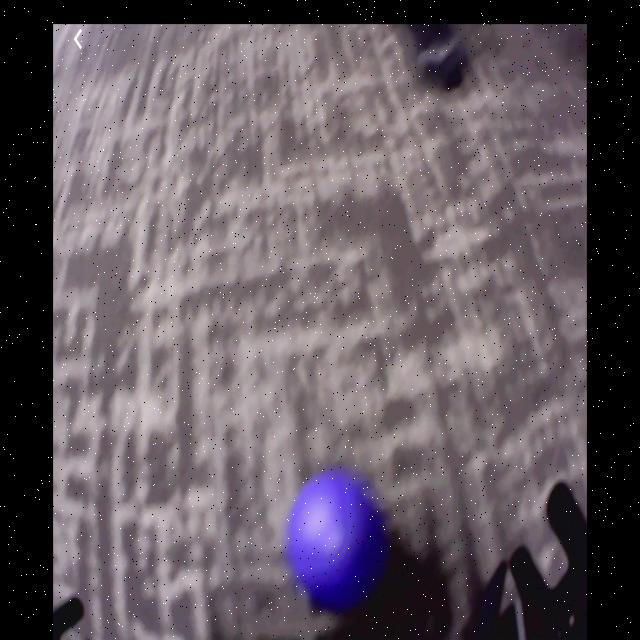ball: (287, 470, 375, 609)
